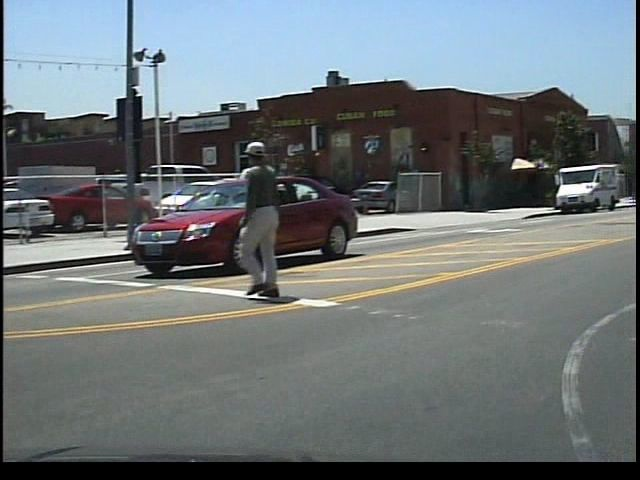person: (237, 139, 316, 306)
